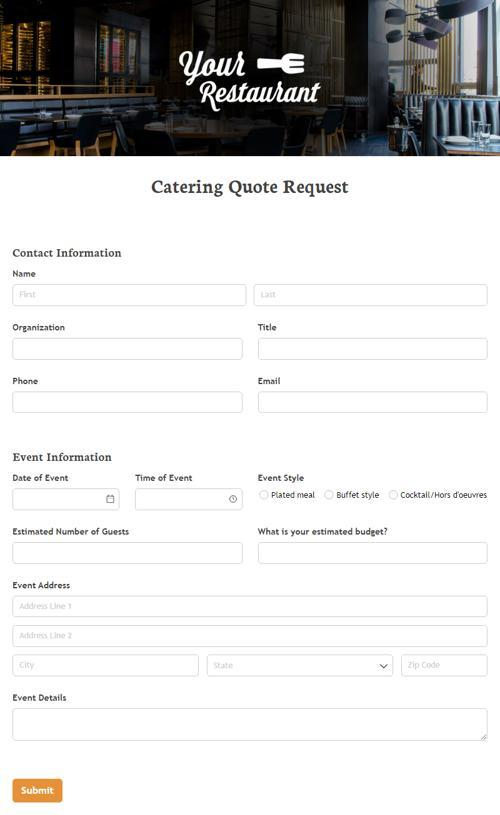button: (14, 779, 63, 803)
dropdown: (210, 655, 395, 677)
input: (13, 709, 488, 742), (12, 625, 488, 649), (14, 596, 487, 619), (11, 337, 246, 363), (254, 337, 495, 362), (260, 543, 491, 567), (258, 284, 487, 308), (262, 390, 489, 414), (14, 284, 247, 307), (9, 392, 245, 414), (14, 542, 244, 562), (14, 654, 200, 678), (137, 488, 243, 513), (13, 490, 121, 510), (404, 654, 488, 677)
label: (145, 174, 357, 200), (11, 447, 118, 466), (258, 526, 391, 539), (13, 248, 126, 261), (12, 527, 133, 539), (249, 471, 311, 488), (401, 491, 491, 502), (11, 319, 70, 335), (11, 579, 73, 593), (6, 472, 72, 485), (11, 693, 71, 706), (132, 474, 199, 485), (273, 490, 318, 503), (254, 373, 287, 388), (337, 491, 381, 501), (9, 377, 46, 388), (254, 320, 281, 335), (13, 270, 39, 280)
radio: (322, 487, 337, 503), (389, 490, 400, 503), (259, 491, 270, 503)
